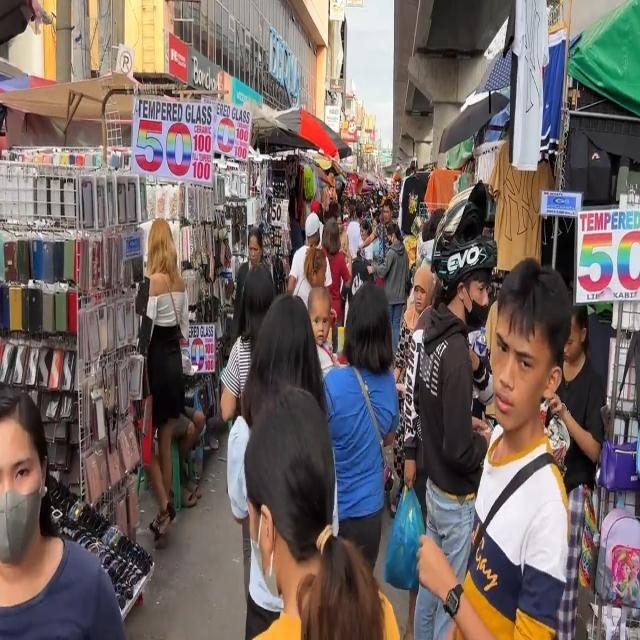hairnet: (456, 278, 491, 327)
